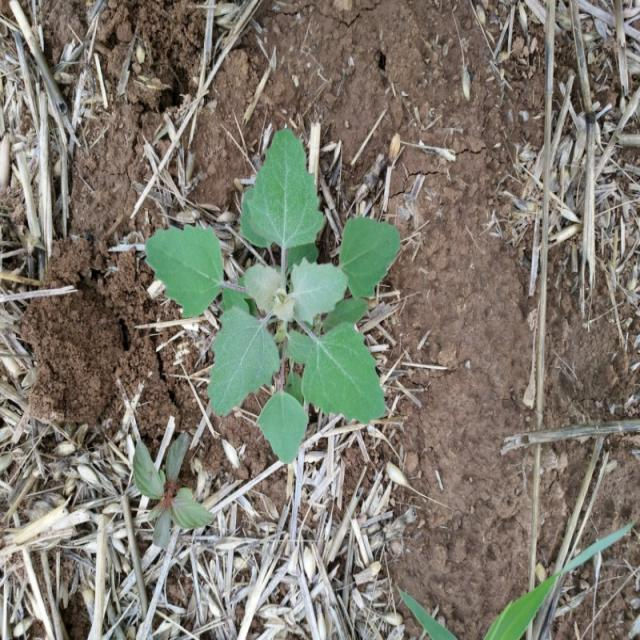goosefoots: (140, 146, 398, 452)
